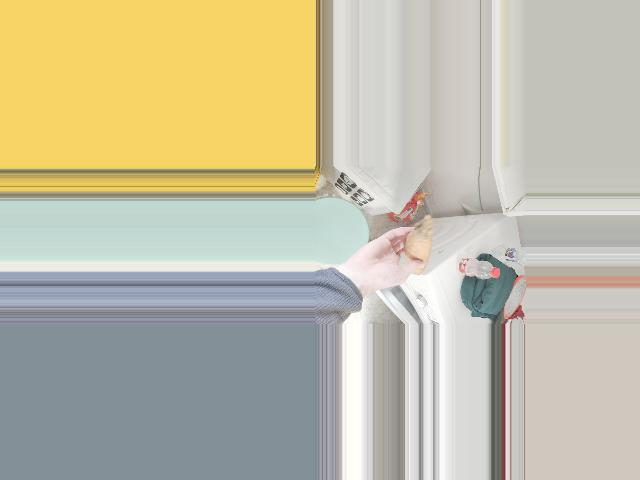sweet_potato: (407, 226, 432, 271)
